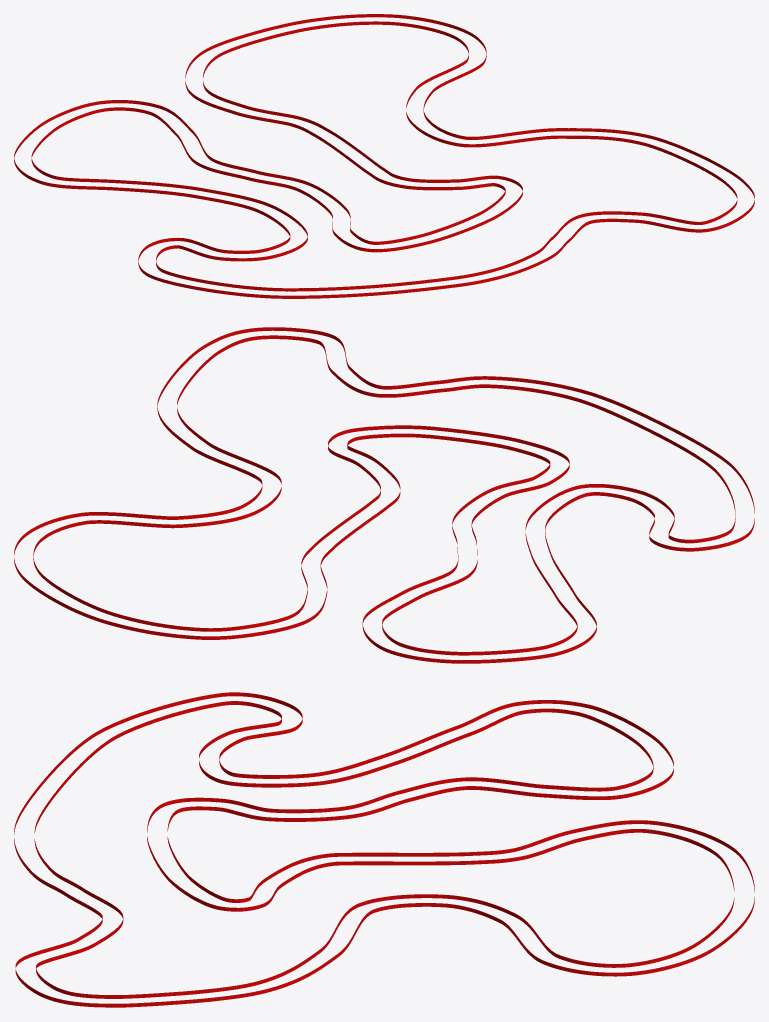
Rendered from leitplanken_track_04_colmesh.fbx.
3 renders of one model, top to bottom at view 1: azimuth 30°, elevation 25°; view 2: azimuth 150°, elevation 25°; view 3: azimuth 270°, elevation 25°, orthographic. The views are drawn at different scales.
Visible parts, largest first — view 1: Mesh; view 2: Mesh; view 3: Mesh.
Part boxes in pixels (<box>): Mesh: <box>14,14,754,298</box>; Mesh: <box>14,327,754,663</box>; Mesh: <box>14,692,754,1007</box>.
Size of the model in its own units: 125241 by 2096 by 126375.
